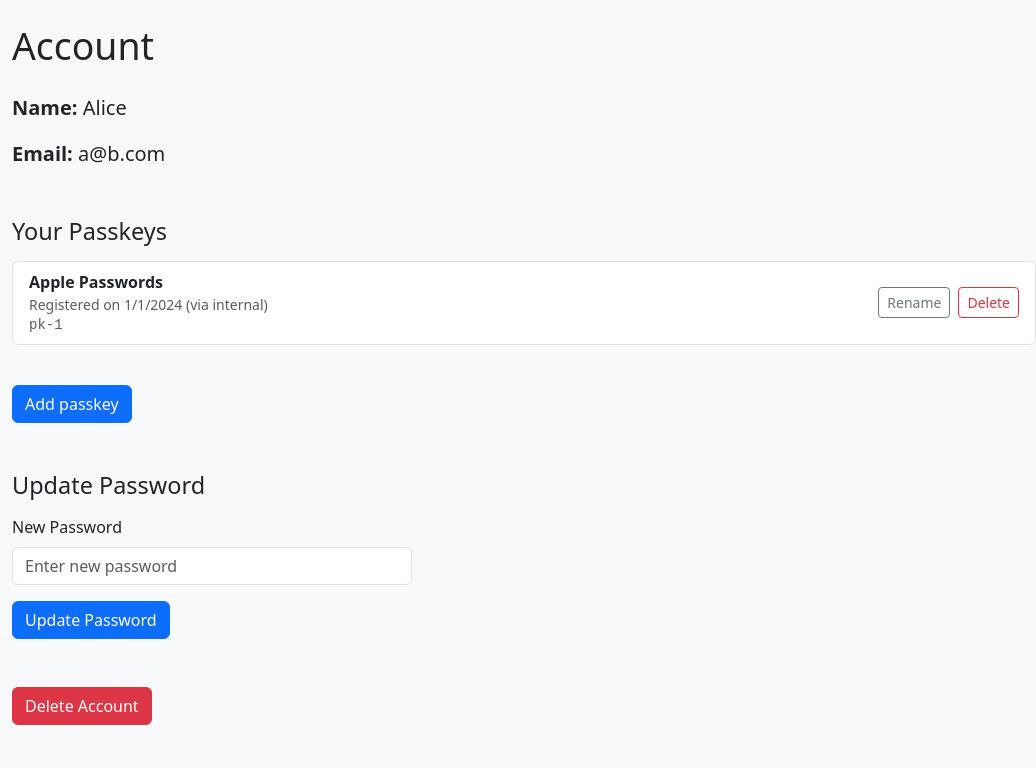
Scenario: AccountPage — rename passkey › leaves the name alone when the edit is cancelled
Click the button with aria-label "Rename Apple Passwords" at coordinates (914, 303), box top-left (878, 288), bottom-right (950, 318)
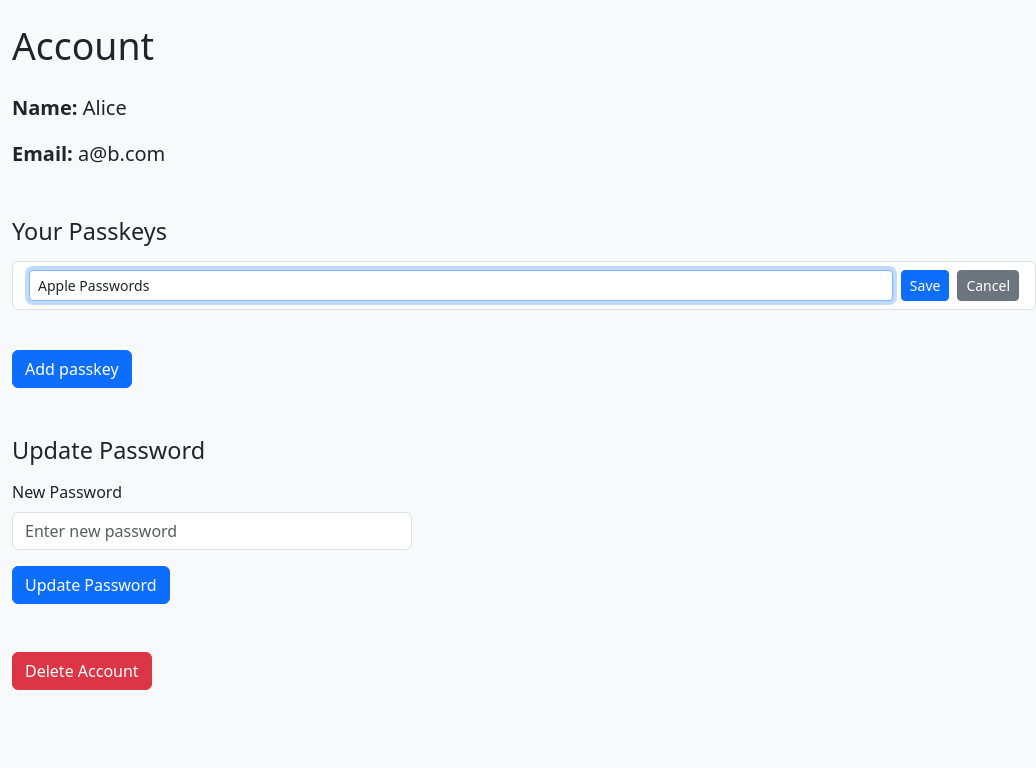
Replace the text in the field named "Passkey name" with "Discarded" at coordinates (461, 286), box top-left (29, 270), bottom-right (893, 301)
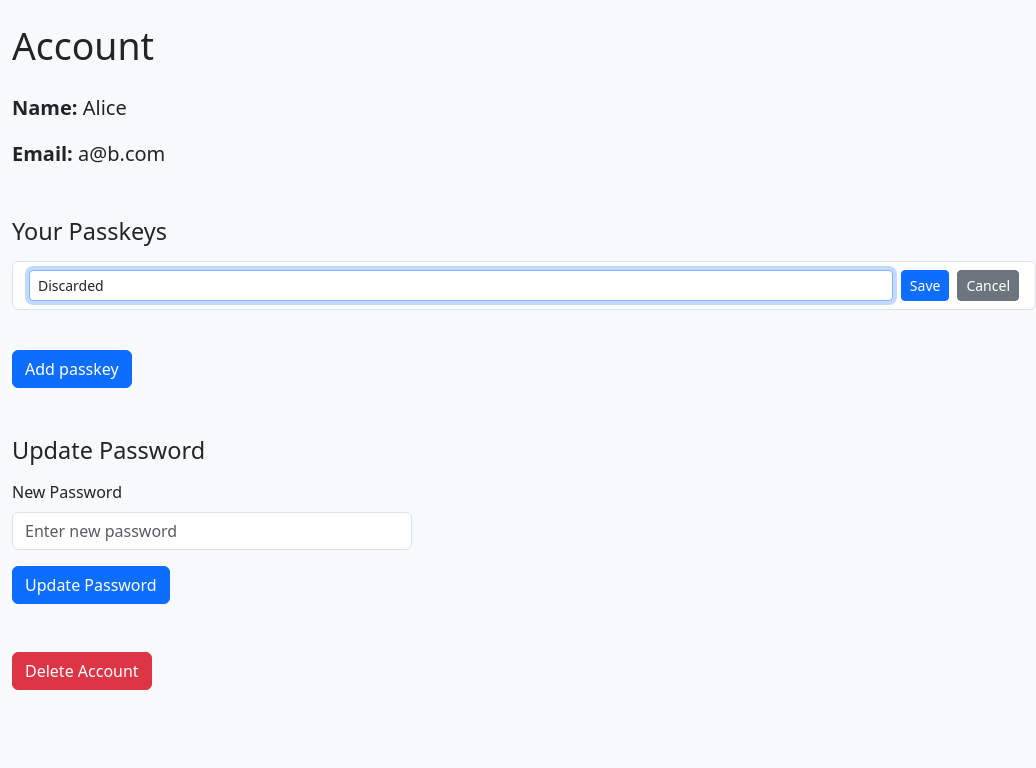
Click the button "Cancel" at coordinates (988, 286), box top-left (957, 270), bottom-right (1019, 301)
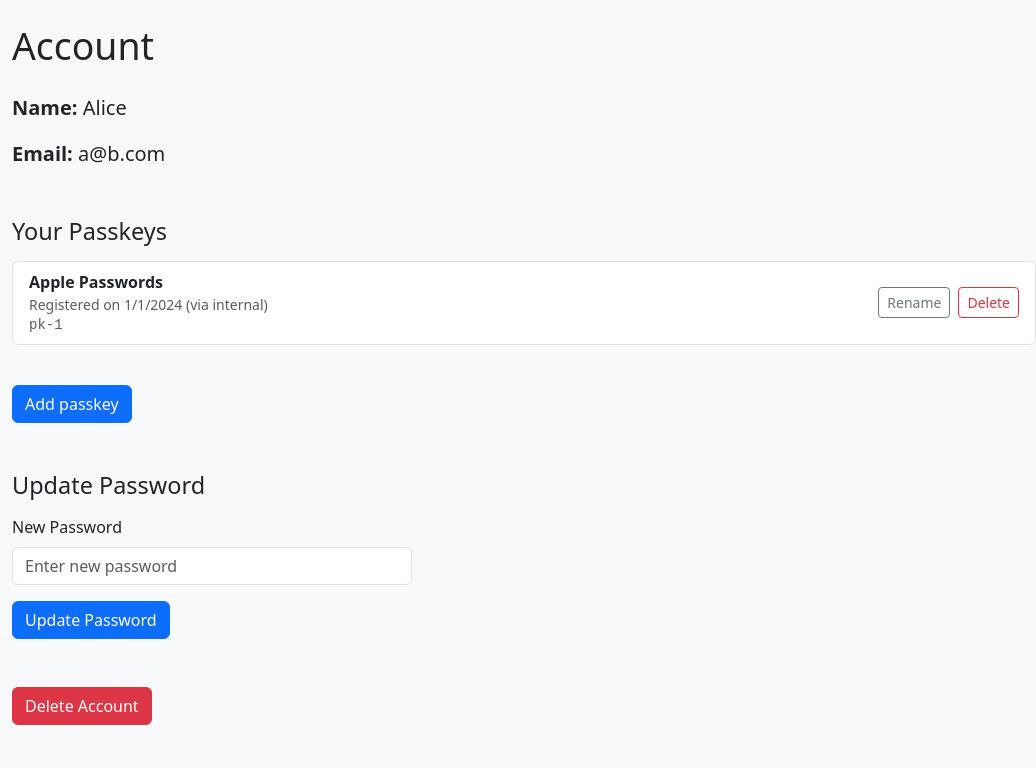
Check: the text "Apple Passwords" is shown, box top-left (29, 271), bottom-right (163, 293)
